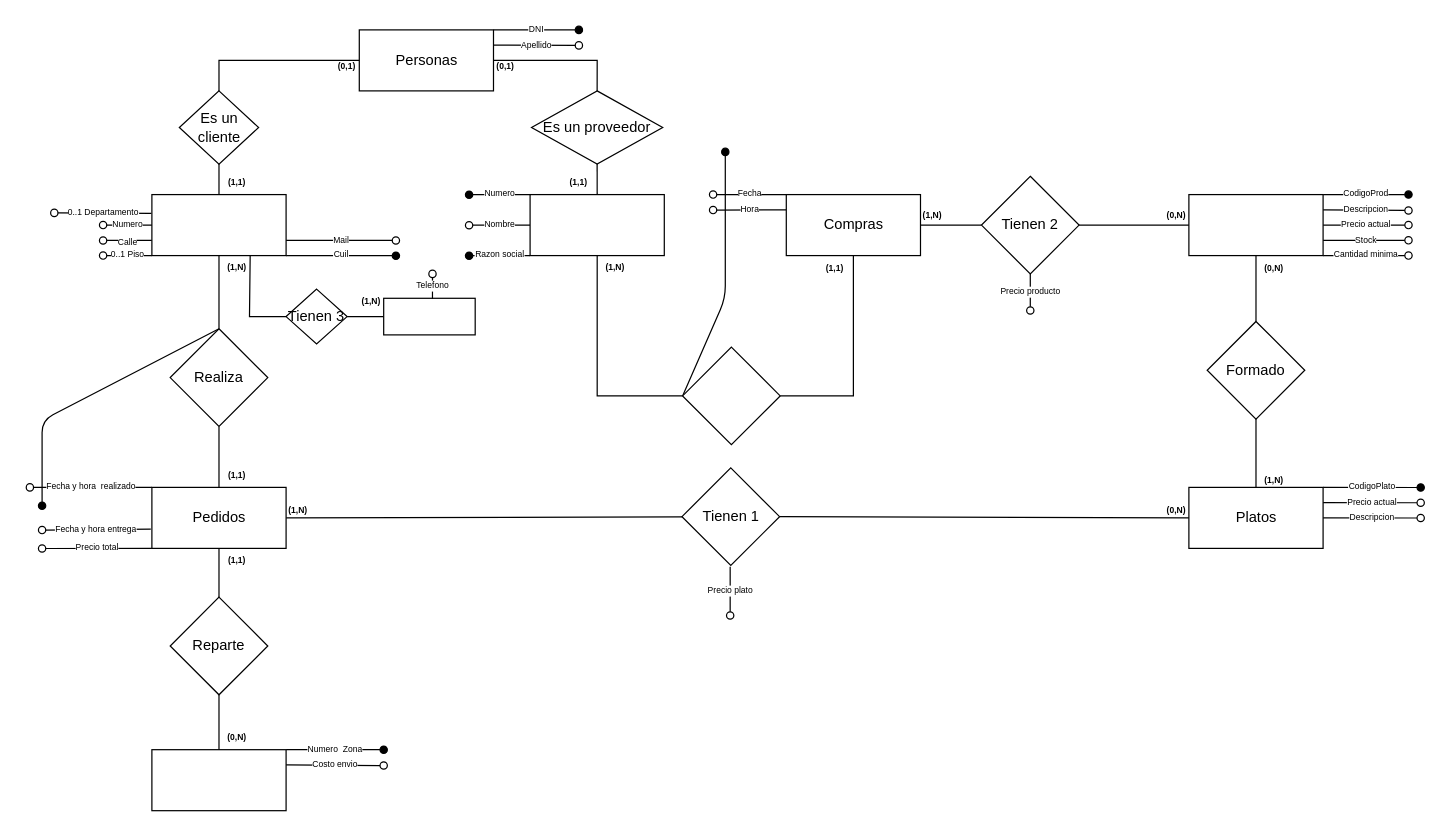
Some shapes in this 1452 by 832 pixel diagram are drawn without their labels. Each missing label, with the centre of its shape:
Clientes: the point at 218,224
Poseen: the point at 730,395
Productos: the point at 1255,224
Proveedores: the point at 596,224
Telefonos: the point at 428,316
Zonas: the point at 218,779
